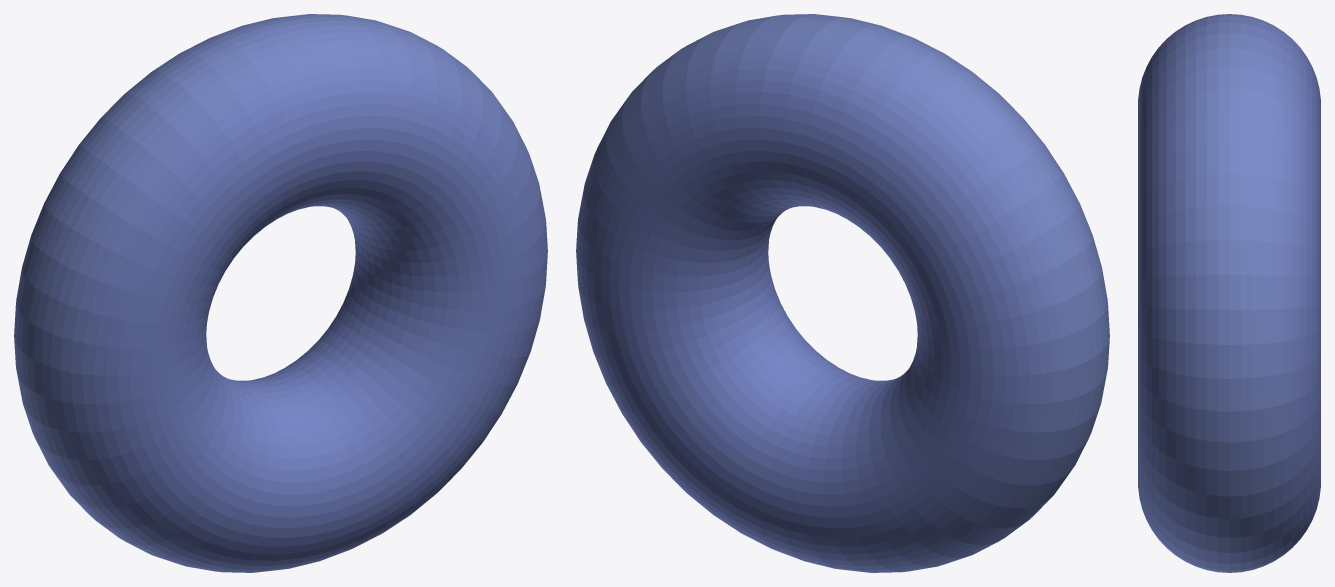
3 renders of one model, left to right at view 1: azimuth 30°, elevation 25°; view 2: azimuth 150°, elevation 25°; view 3: azimuth 270°, elevation 25°, orthographic. The views are drawn at different scales.
Parts seen in each view (by area): view 1: world; view 2: world; view 3: world.
Part boxes in pixels (box(x1,y1,x2,y2)): world: box(14, 14, 547, 572); world: box(576, 14, 1109, 572); world: box(1138, 14, 1320, 572).
Size of the model in its own units: 15.87 by 15.84 by 5.19.
